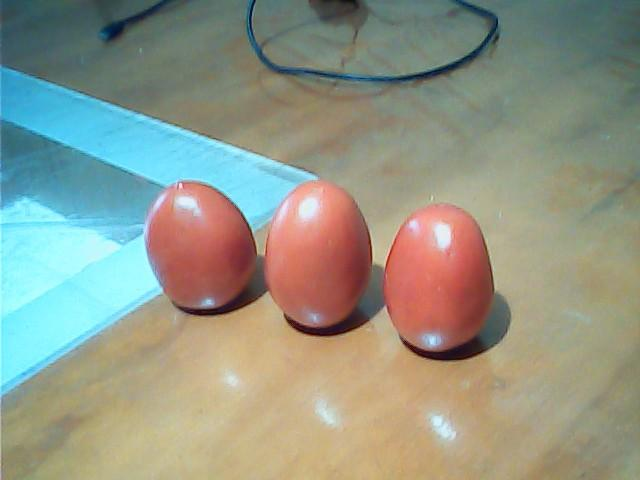maduro: (385, 200, 499, 356), (265, 179, 375, 331), (145, 178, 256, 315)
